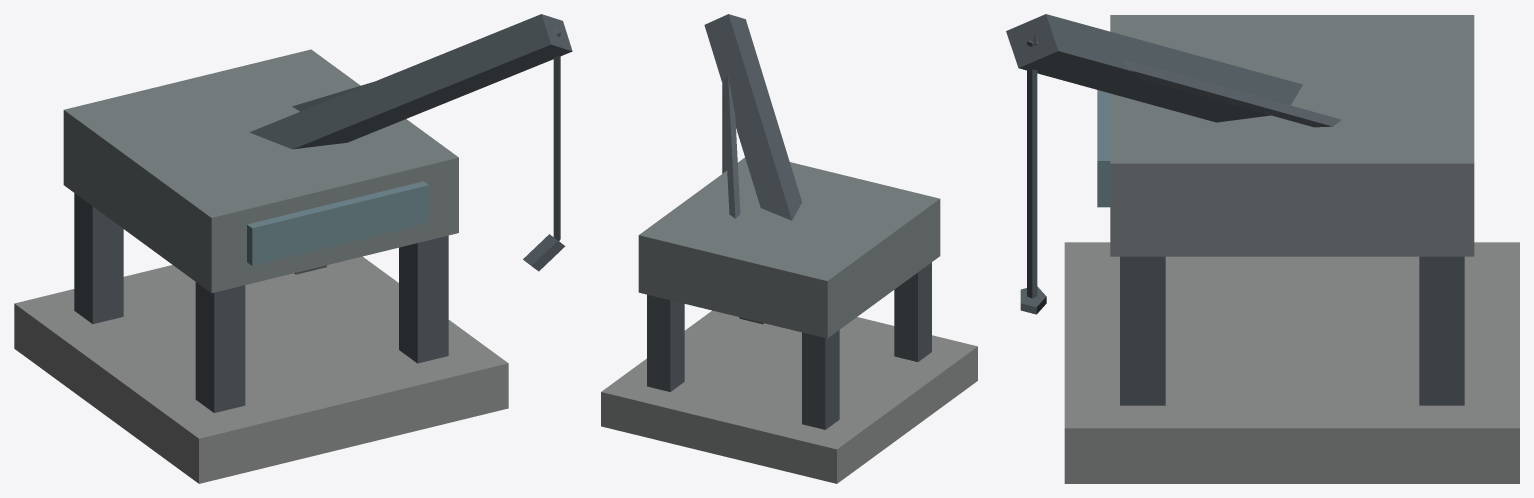
Rendered from quay_crane.glb.
3 views of the same model, side by side, from view 1: azimuth 30°, elevation 25°; view 2: azimuth 150°, elevation 25°; view 3: azimuth 270°, elevation 25° (orthographic). The views are drawn at different scales.
Parts seen in each view (by area): view 1: quay_crane; view 2: quay_crane; view 3: quay_crane.
Part boxes in pixels (bbox=[...]): quay_crane: bbox=[14, 14, 572, 483]; quay_crane: bbox=[601, 14, 977, 483]; quay_crane: bbox=[1006, 14, 1519, 483].
Bounding box in the file's own units: 4.8 × 5 × 4.8.
